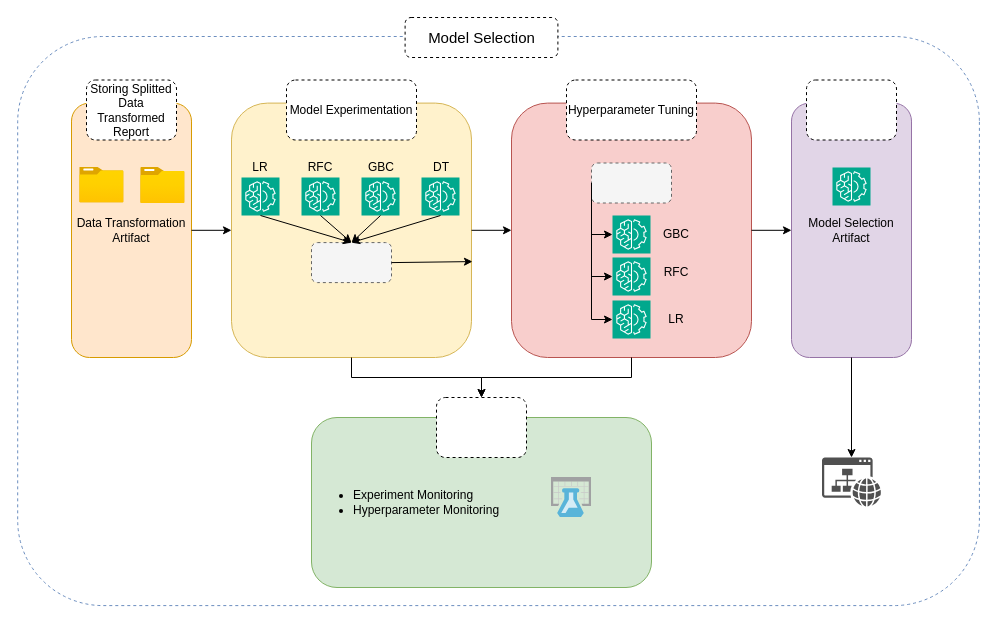
Image size: 997x624. Some labels were removed from this diagram. The centre of each missing label's shape, as x and y in pixels:
Mlflow Server: the point at 481,427
Optuna: the point at 631,182
Py-caret: the point at 351,262
Storing Best Model: the point at 851,109
